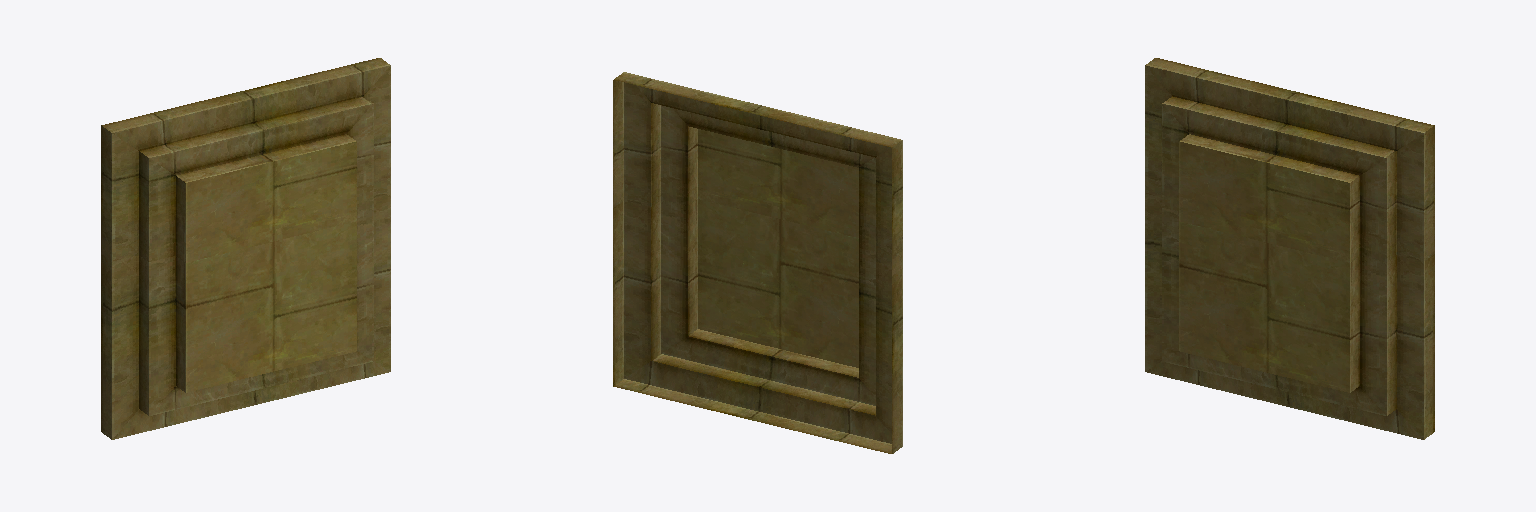
3 renders of one model, left to right at view 1: azimuth 30°, elevation 25°; view 2: azimuth 150°, elevation 25°; view 3: azimuth 330°, elevation 25°, orthographic.
Visible parts, largest first — view 1: juqing_fuben_237_zhantai_01; view 2: juqing_fuben_237_zhantai_01; view 3: juqing_fuben_237_zhantai_01.
Part boxes in pixels (x1,y1,x2,y2): juqing_fuben_237_zhantai_01: (101,58,390,439); juqing_fuben_237_zhantai_01: (613,72,902,453); juqing_fuben_237_zhantai_01: (1145,58,1434,439).
Size of the model in its own units: 163 by 171 by 30.86.
1 materials, 1 textured.